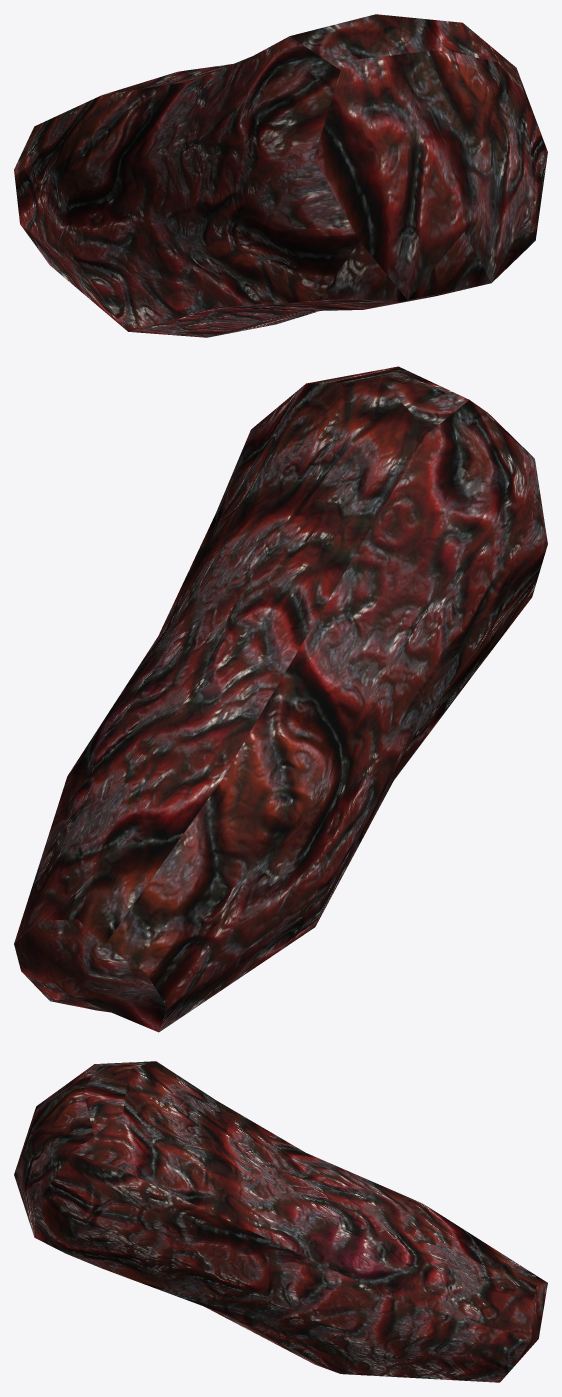
Rendered from Flesh.fbx.
The picture shows the model from 3 angles, top to bottom: view 1: azimuth 30°, elevation 25°; view 2: azimuth 150°, elevation 25°; view 3: azimuth 270°, elevation 25°; orthographic projection. The views are drawn at different scales.
Parts seen in each view (by area): view 1: Icosphere; view 2: Icosphere; view 3: Icosphere.
Boxes of the visible parts, x1,y1,x2,y2 form: Icosphere: (14, 14, 547, 337); Icosphere: (14, 366, 547, 1032); Icosphere: (14, 1061, 547, 1382).
Bounding box in the file's own units: 1.69 × 2.59 × 4.18.
